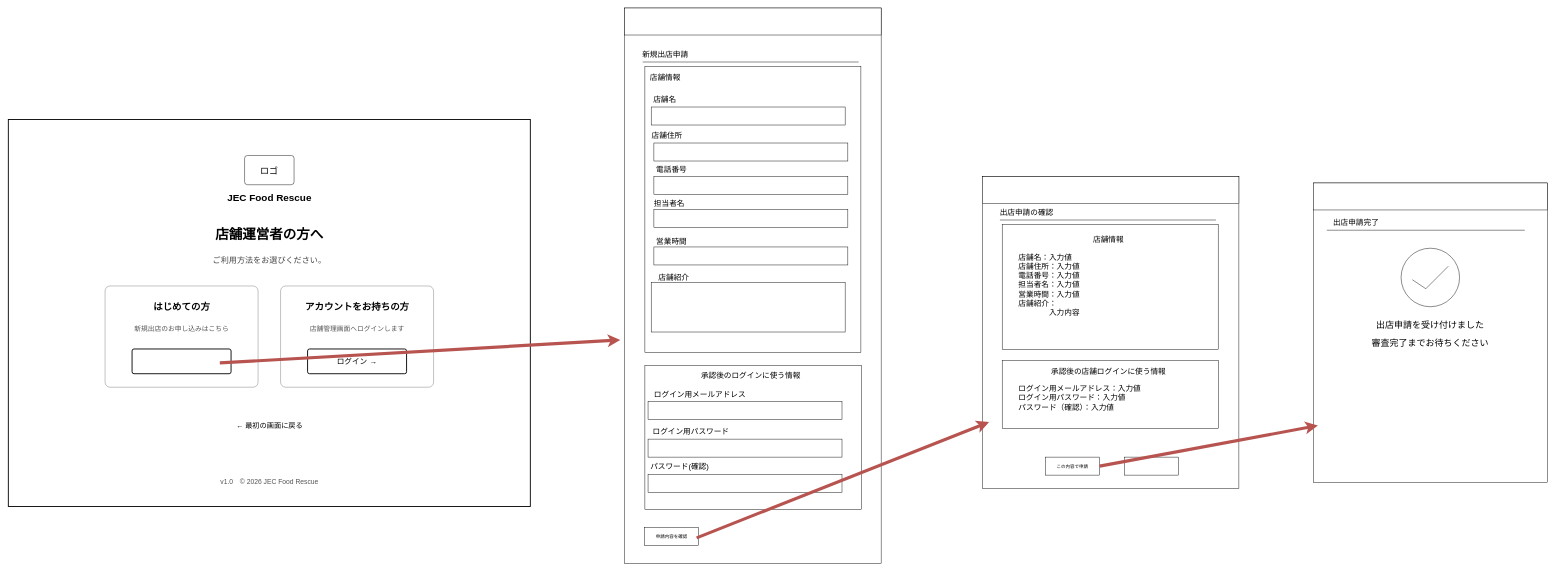
This 1555x572 diagram has some shape labels left out. The box of each missing label's shape, as (x1, y1, x2, y2) in pixels:
入力に戻る: (1124, 457, 1178, 475)
新規出店へ進む →: (131, 348, 231, 374)
